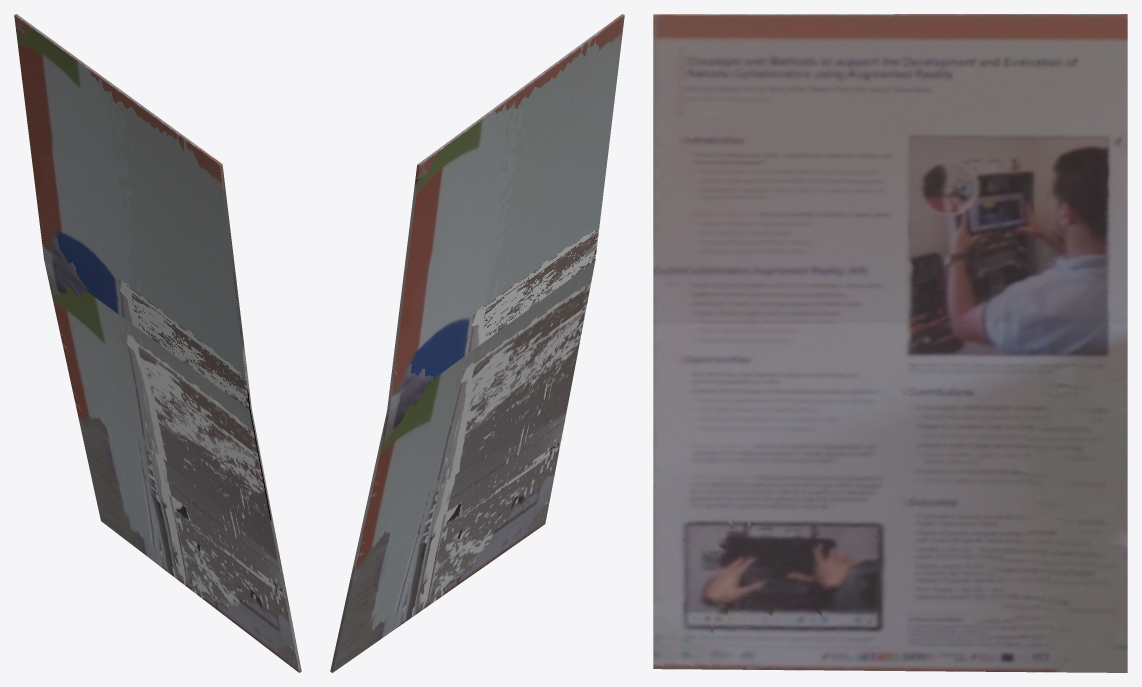
The model's file is placapapel.fbx.
3 views of the same model, side by side, from view 1: azimuth 30°, elevation 25°; view 2: azimuth 150°, elevation 25°; view 3: azimuth 270°, elevation 25° (orthographic). The views are drawn at different scales.
Parts seen in each view (by area): view 1: Plane; view 2: Plane; view 3: Plane.
Part boxes in pixels (left/top/right/bottom): Plane: left=14, top=14, right=301, bottom=672; Plane: left=330, top=14, right=624, bottom=672; Plane: left=653, top=14, right=1127, bottom=672.
Size of the model in its own units: 17.44 by 98.48 by 69.44.
1 material, 1 textured.
